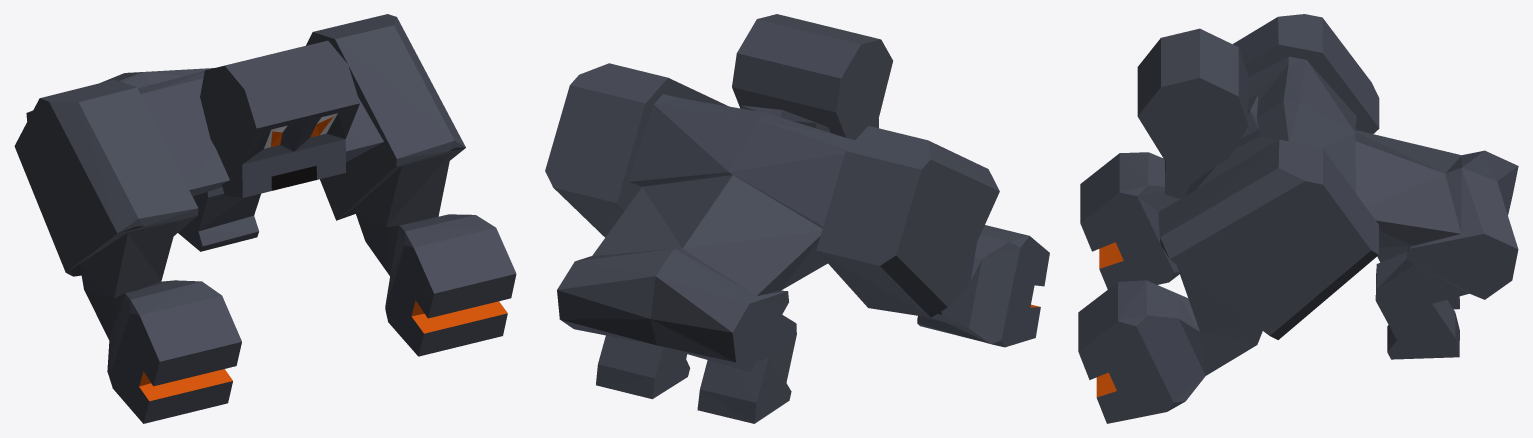
The model's file is kong_000026.obj.
The picture shows the model from 3 angles, left to right: view 1: azimuth 30°, elevation 25°; view 2: azimuth 150°, elevation 25°; view 3: azimuth 270°, elevation 25°; orthographic projection. The views are drawn at different scales.
Parts seen in each view (by area): view 1: Cube; view 2: Cube; view 3: Cube.
Part boxes in pixels (x1=…): Cube: x1=14, y1=14, x2=516, y2=423; Cube: x1=545, y1=14, x2=1049, y2=423; Cube: x1=1078, y1=14, x2=1518, y2=423.
Size of the model in its own units: 5.84 by 4.58 by 6.36.
1 material, 1 textured.
